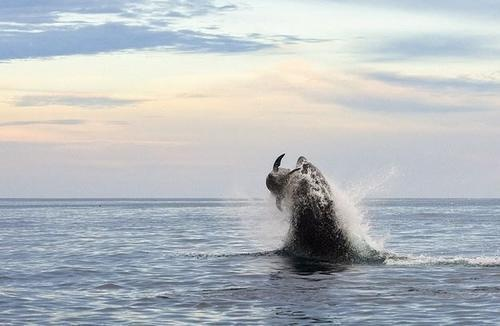fish: (265, 152, 308, 206)
